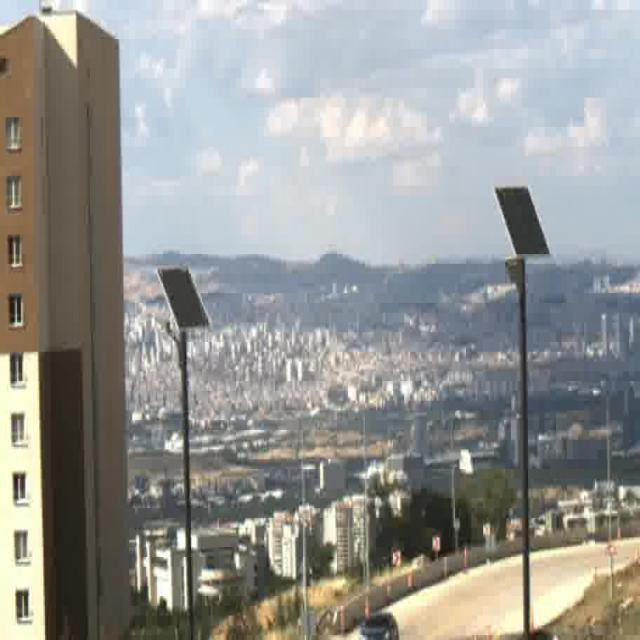Car: (357, 610, 398, 640)
